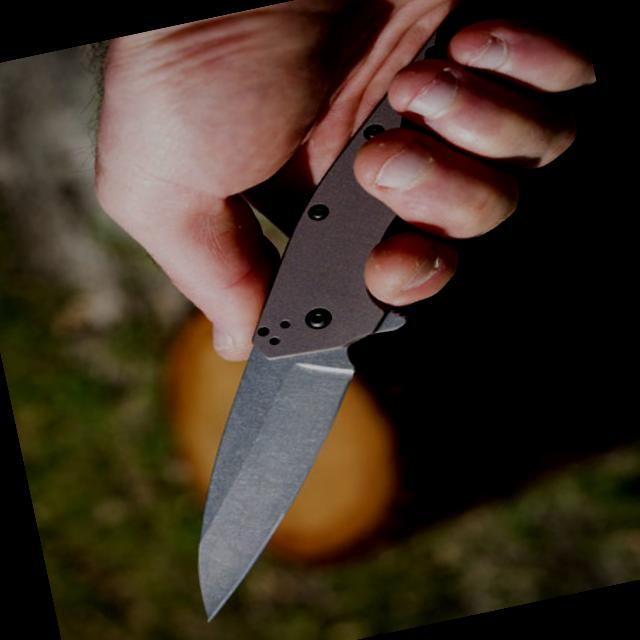knife: (93, 155, 520, 640)
